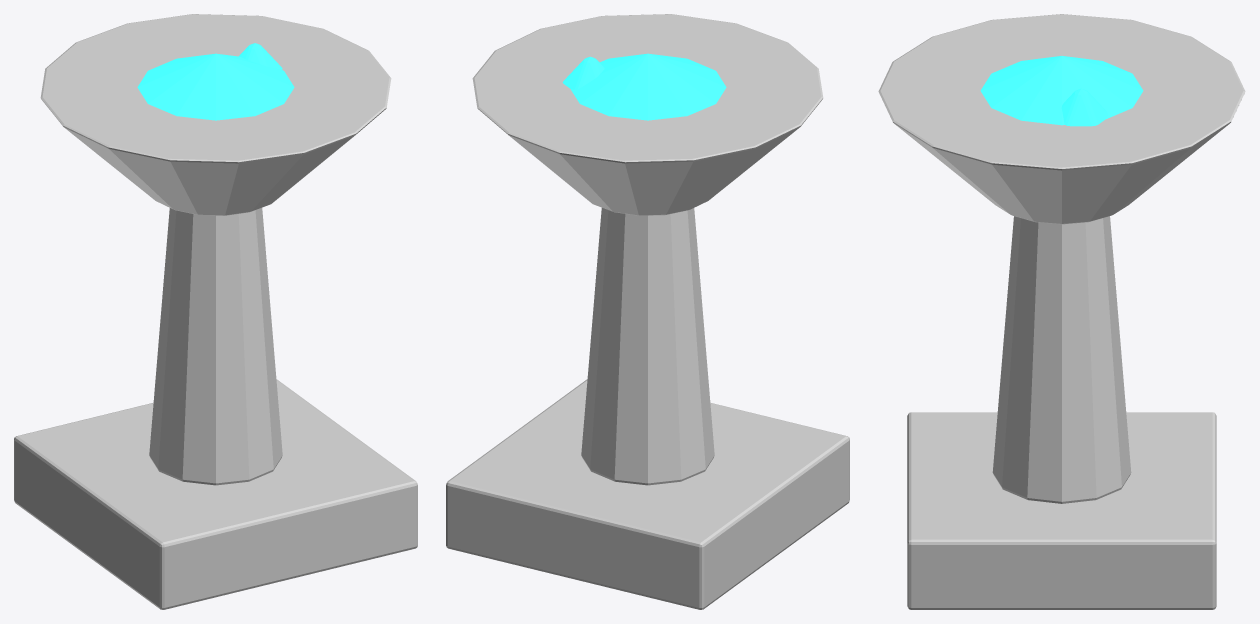
File: egipto_brazier.fbx
3 views of the same model, side by side, from view 1: azimuth 30°, elevation 25°; view 2: azimuth 150°, elevation 25°; view 3: azimuth 270°, elevation 25° (orthographic). The views are drawn at different scales.
Visible parts, largest first — view 1: egipto_brazier; view 2: egipto_brazier; view 3: egipto_brazier.
Part boxes in pixels (box(x1,y1,x2,y2)): egipto_brazier: box(14, 14, 417, 609); egipto_brazier: box(446, 14, 849, 609); egipto_brazier: box(878, 14, 1245, 609).
Size of the model in its own units: 0.9498 by 1.4 by 0.9498.
